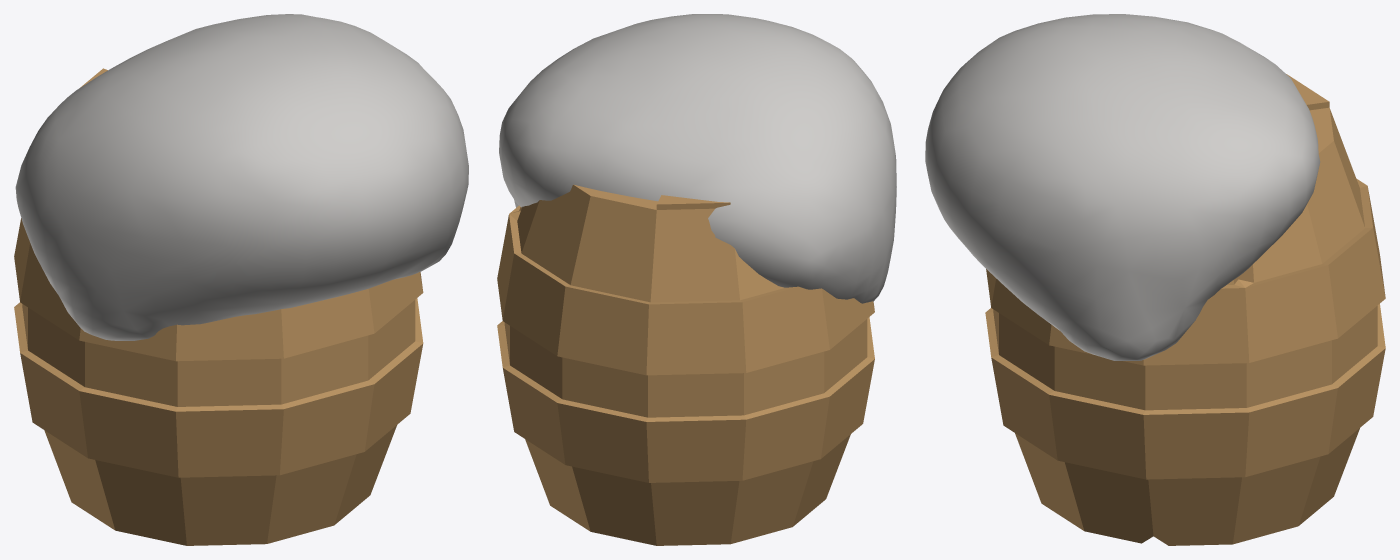
The model's file is Barrel_W_Snow_001.fbx.
3 renders of one model, left to right at view 1: azimuth 30°, elevation 25°; view 2: azimuth 150°, elevation 25°; view 3: azimuth 270°, elevation 25°, orthographic. The views are drawn at different scales.
Parts seen in each view (by area): view 1: Barrel_W_Snow.001; view 2: Barrel_W_Snow.001; view 3: Barrel_W_Snow.001.
Part boxes in pixels (x1,y1,x2,y2): Barrel_W_Snow.001: [14, 14, 468, 545]; Barrel_W_Snow.001: [497, 14, 896, 545]; Barrel_W_Snow.001: [925, 14, 1385, 545].
Size of the model in its own units: 88.41 by 98.88 by 92.78.
